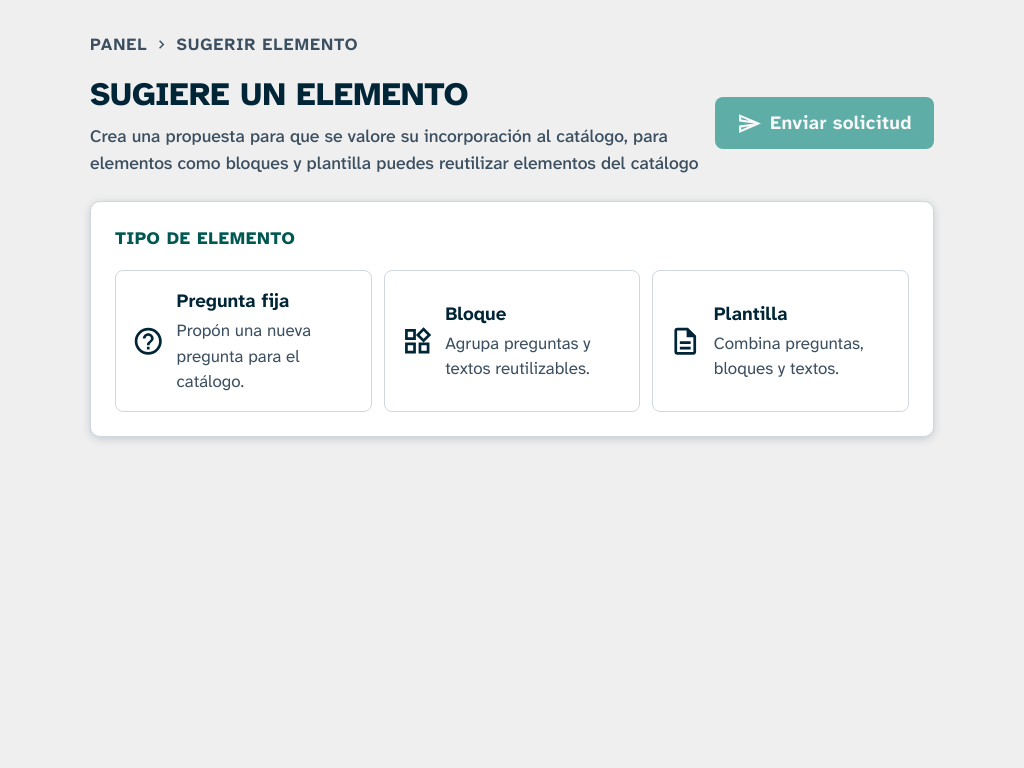
Test case: SuggestElementPage › requiere un motivo y un enunciado antes de enviar una pregunta
Click the button "Pregunta fija Propón una nueva pregunta para el catálogo.": (243, 341) 115,270 -> 372,412
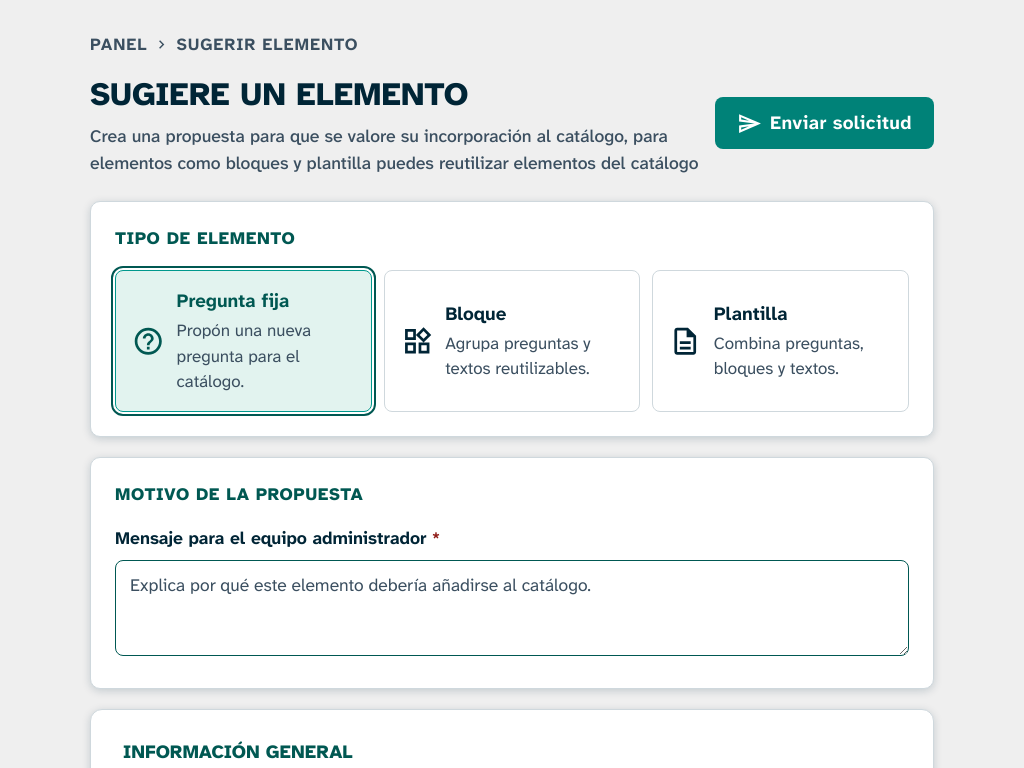
Click the button "Enviar solicitud": (824, 123) 715,97 -> 934,149
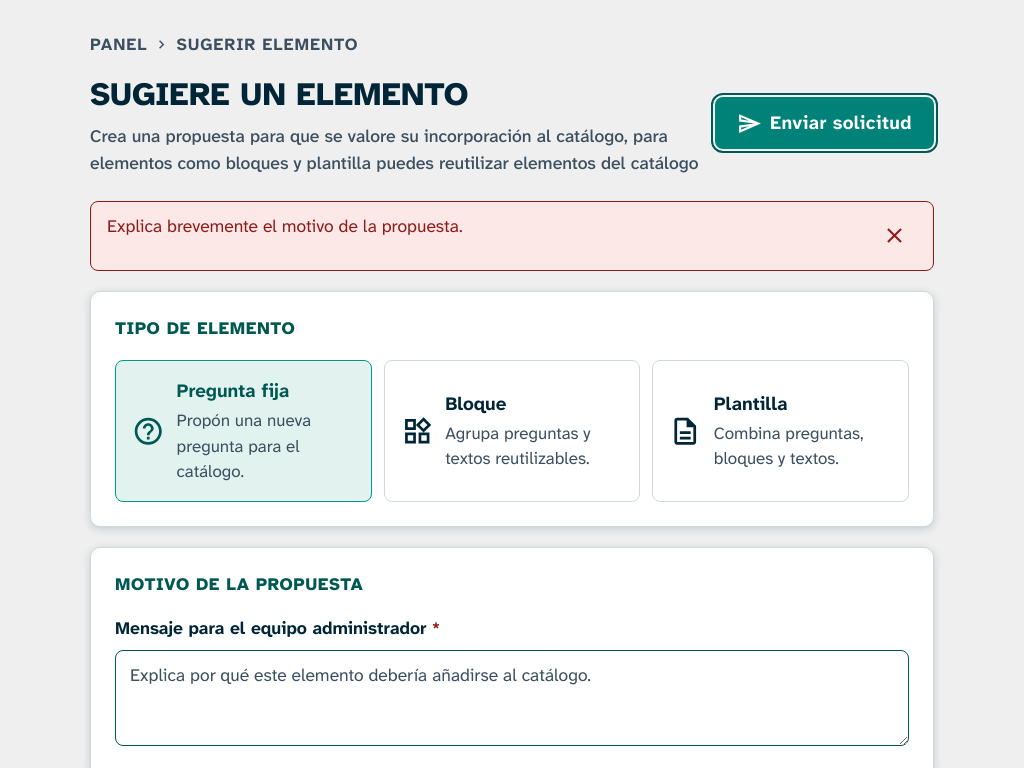
expect the message shows "Explica brevemente el motivo": met, box 107,215 -> 463,238
In the text box labelled "Mensaje para el equipo administrador *": (512, 698) 115,650 -> 909,746, type "Es útil"
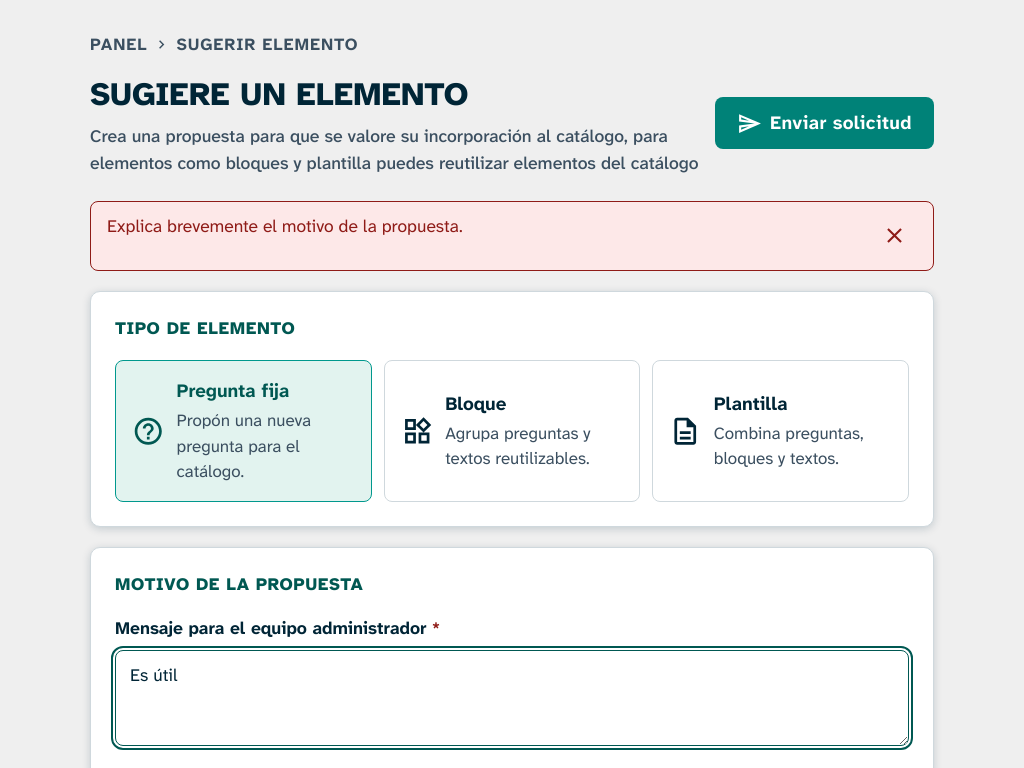
Click the button "Enviar solicitud": (824, 123) 715,97 -> 934,149
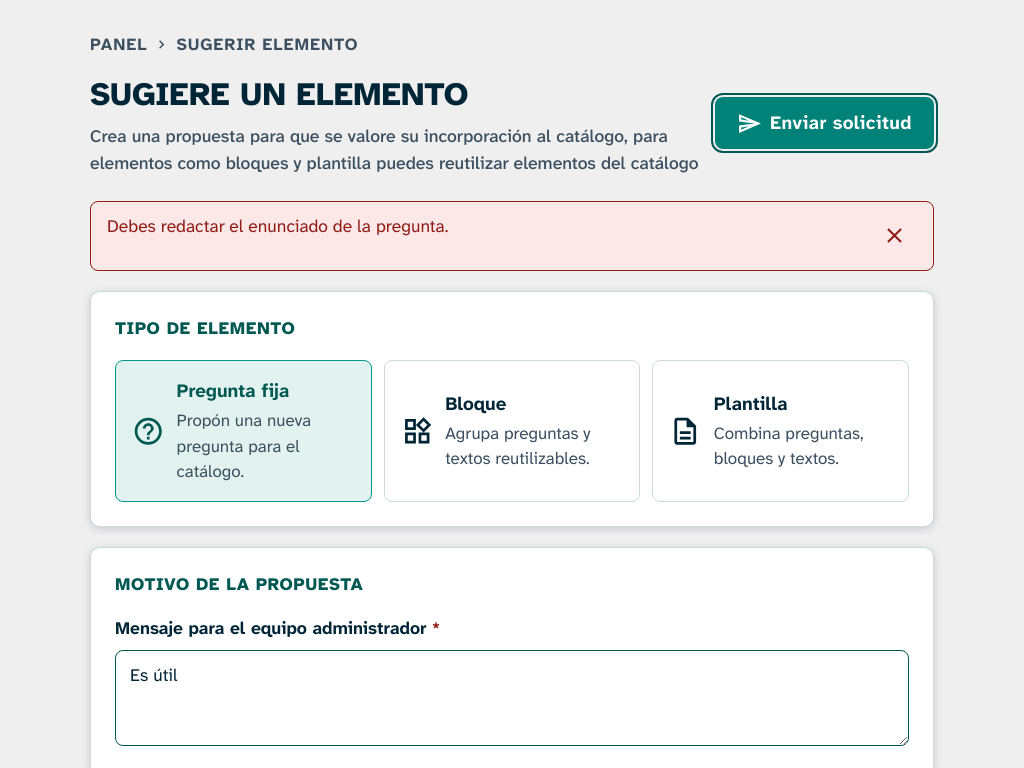
expect the message shows "Debes redactar el enunciado": met, box 107,215 -> 448,238
